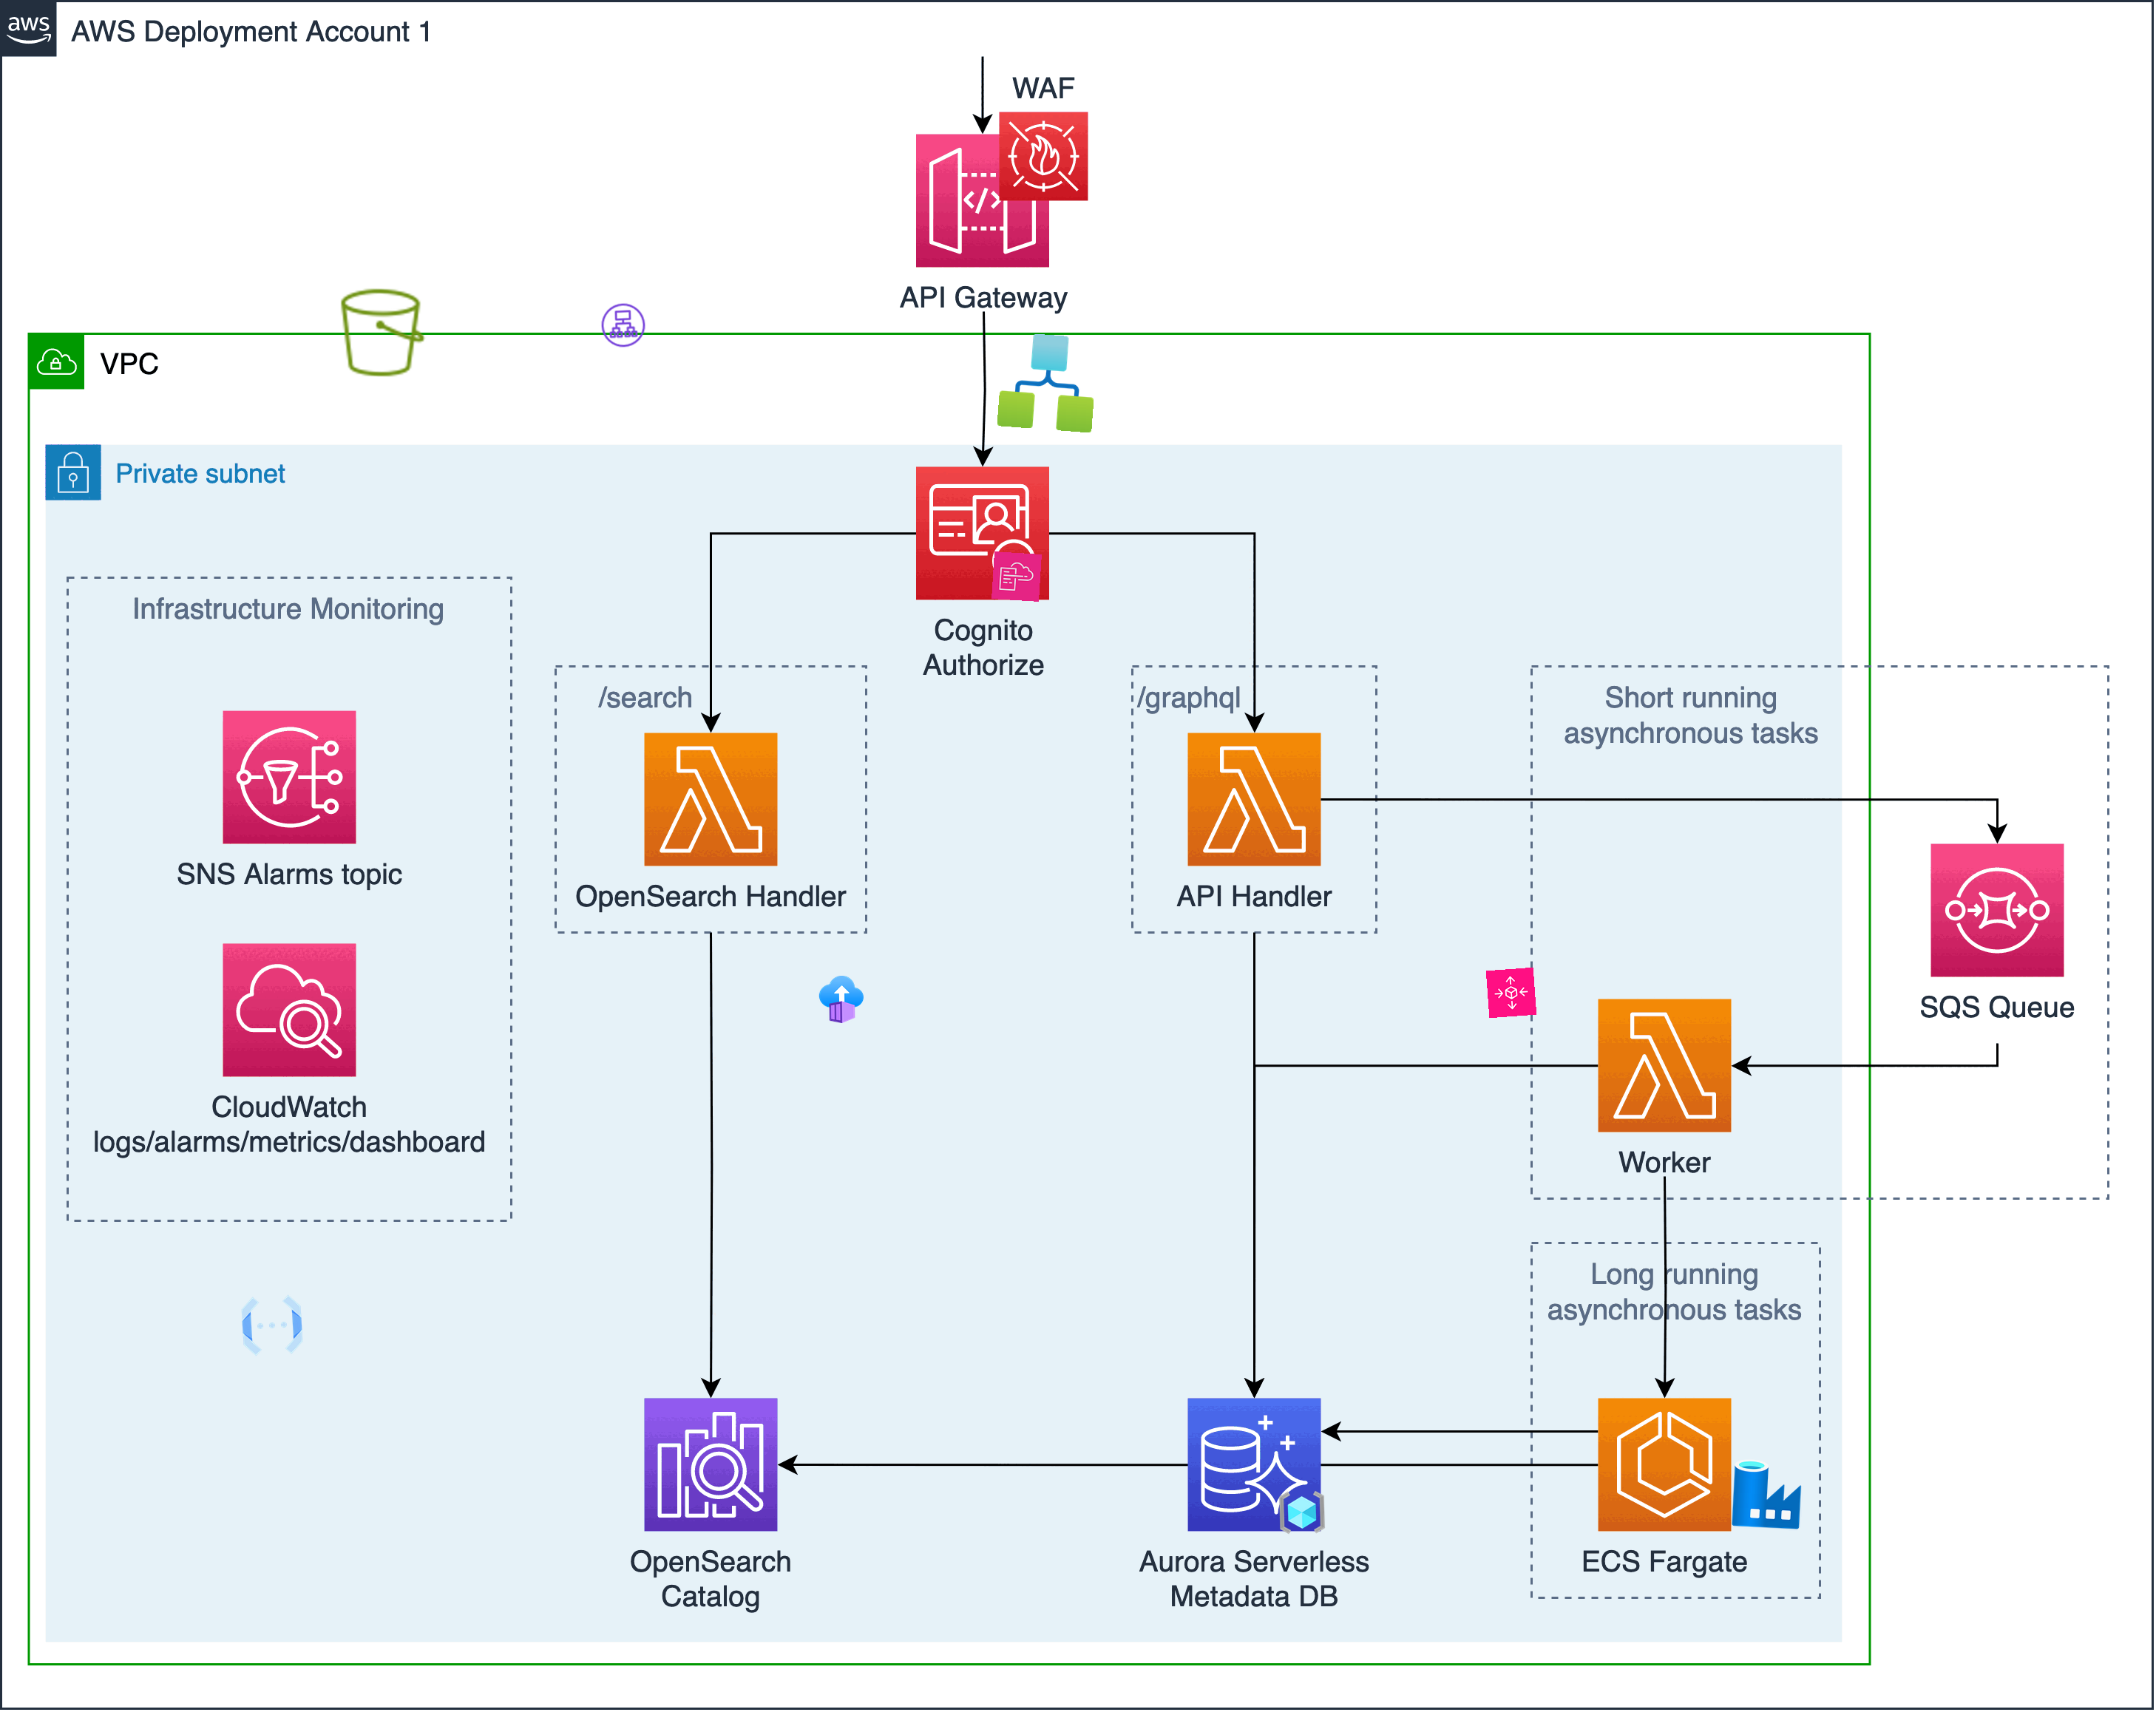aws_auto_scaling: (1486, 967, 1536, 1018)
aws_cloudformation: (992, 551, 1041, 602)
aws_elastic_load_balancing_application_load_balancer: (599, 301, 649, 350)
aws_simple_storage_service_bucket: (334, 285, 431, 381)
azure_container_instances: (817, 976, 866, 1023)
azure_data_factories: (1729, 1457, 1804, 1532)
azure_logic_apps: (998, 331, 1099, 434)
azure_resource_groups: (1277, 1488, 1326, 1537)
gcp_cloud_functions: (234, 1287, 310, 1362)
